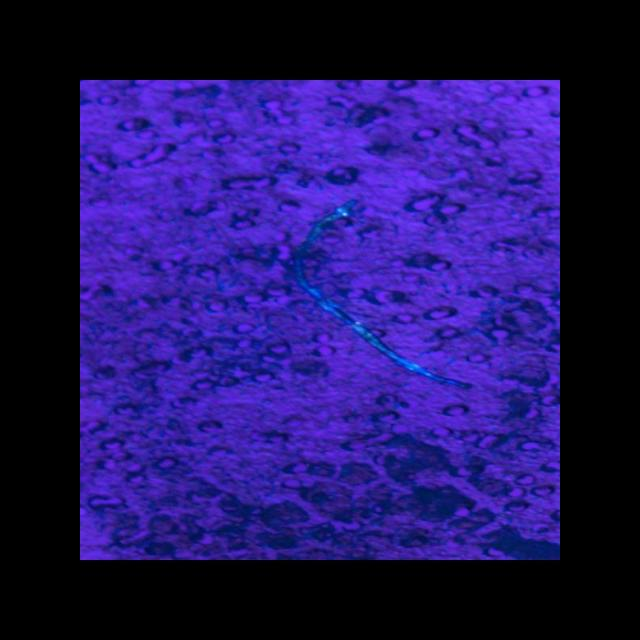Fibre: (270, 193, 492, 395)
